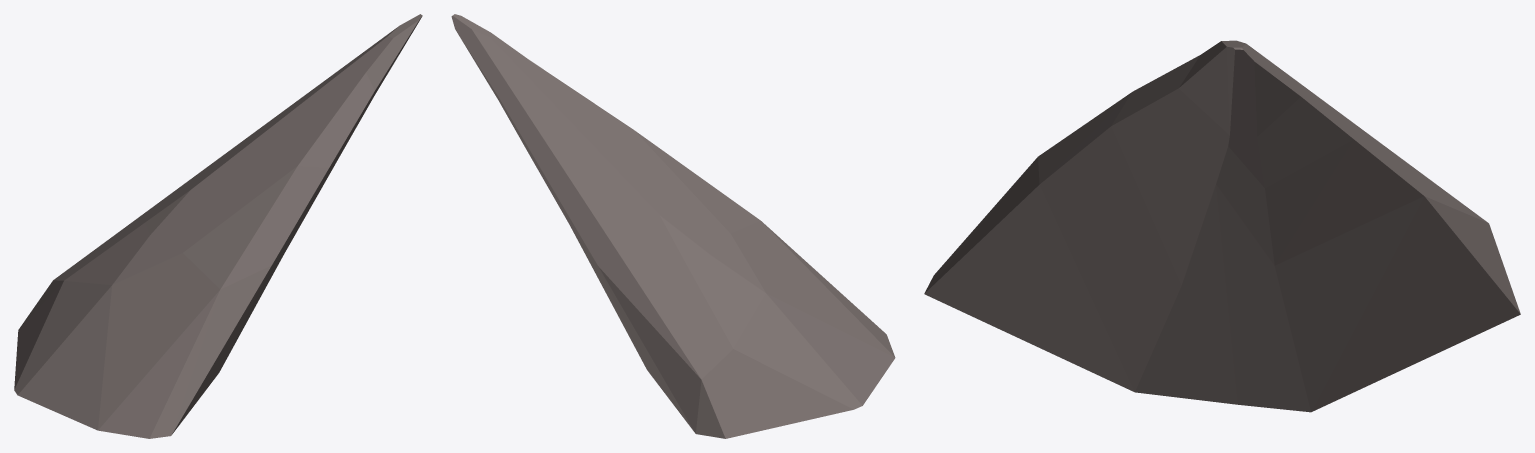
The model's file is Rock_Sharp_l_03.fbx.
3 renders of one model, left to right at view 1: azimuth 30°, elevation 25°; view 2: azimuth 150°, elevation 25°; view 3: azimuth 270°, elevation 25°, orthographic. The views are drawn at different scales.
Parts seen in each view (by area): view 1: Rock_Sharp_l_03; view 2: Rock_Sharp_l_03; view 3: Rock_Sharp_l_03.
Part boxes in pixels (x1,y1,x2,y2): Rock_Sharp_l_03: (14, 14, 422, 438); Rock_Sharp_l_03: (451, 14, 895, 438); Rock_Sharp_l_03: (924, 40, 1520, 412).
Size of the model in its own units: 7.21 by 4.85 by 4.62.
